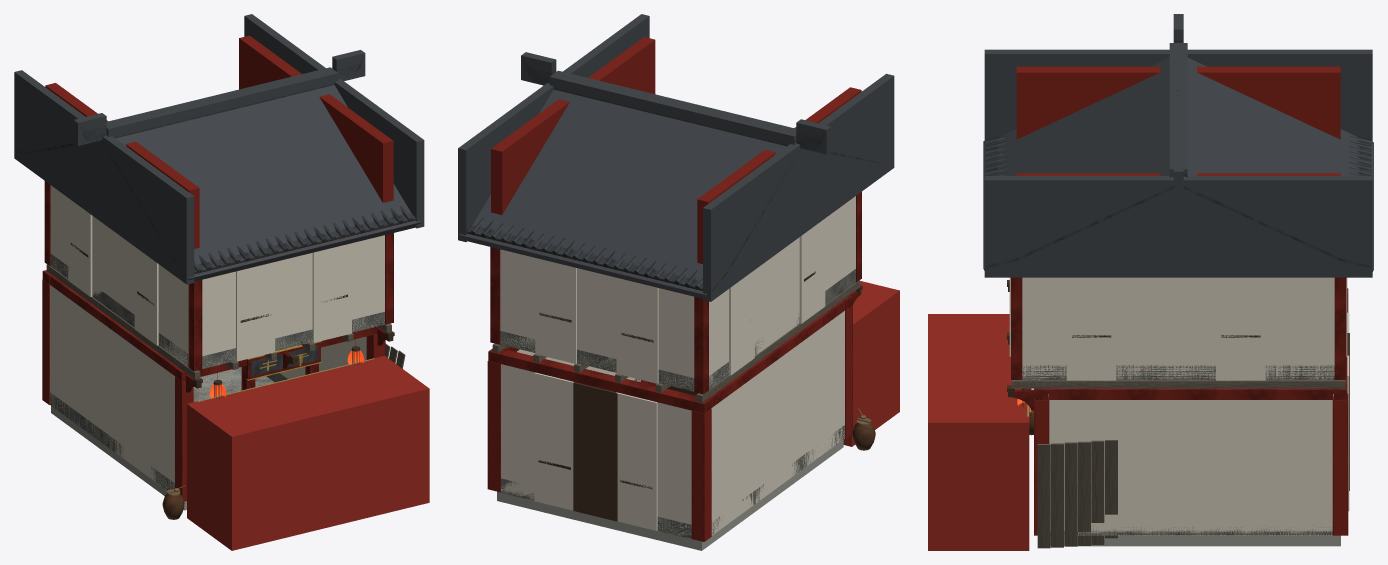
The model's file is kit_shop_house_plaster.gltf.
The picture shows the model from 3 angles, left to right: view 1: azimuth 30°, elevation 25°; view 2: azimuth 150°, elevation 25°; view 3: azimuth 270°, elevation 25°; orthographic projection. The views are drawn at different scales.
Parts seen in each view (by area): view 1: Far, Near, Detail; view 2: Far, Near, Detail; view 3: Far, Near.
Boxes of the visible parts, x1,y1,x2,y2 form: Far: (14,14,429,550); Near: (16,57,415,501); Detail: (162,338,364,519); Far: (458,14,899,550); Near: (467,59,879,541); Detail: (667,386,875,450); Far: (928,14,1373,550); Near: (985,40,1371,548).
Size of the model in its own units: 7.49 by 8.95 by 8.95.
Materials: 22 (21 with a texture image).
